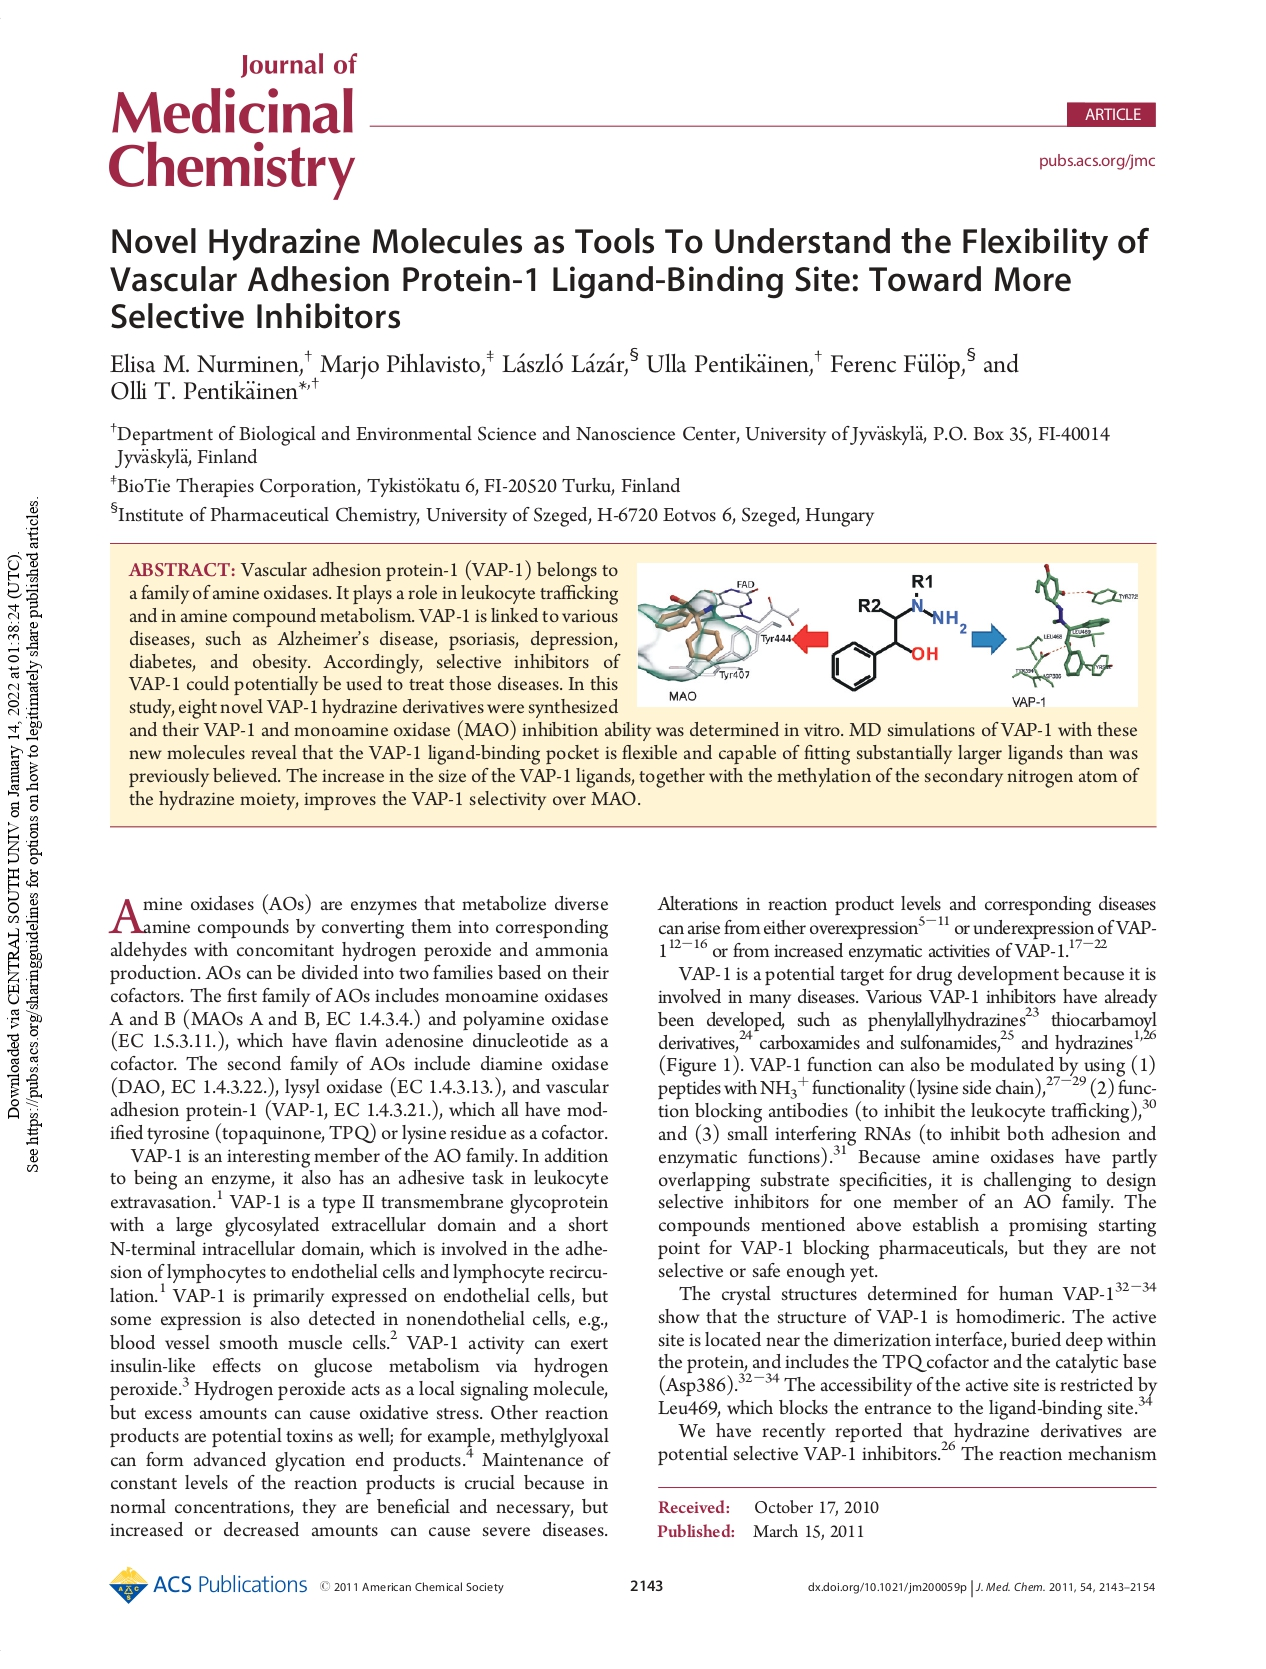exist_molecular: (828, 571, 969, 694)
